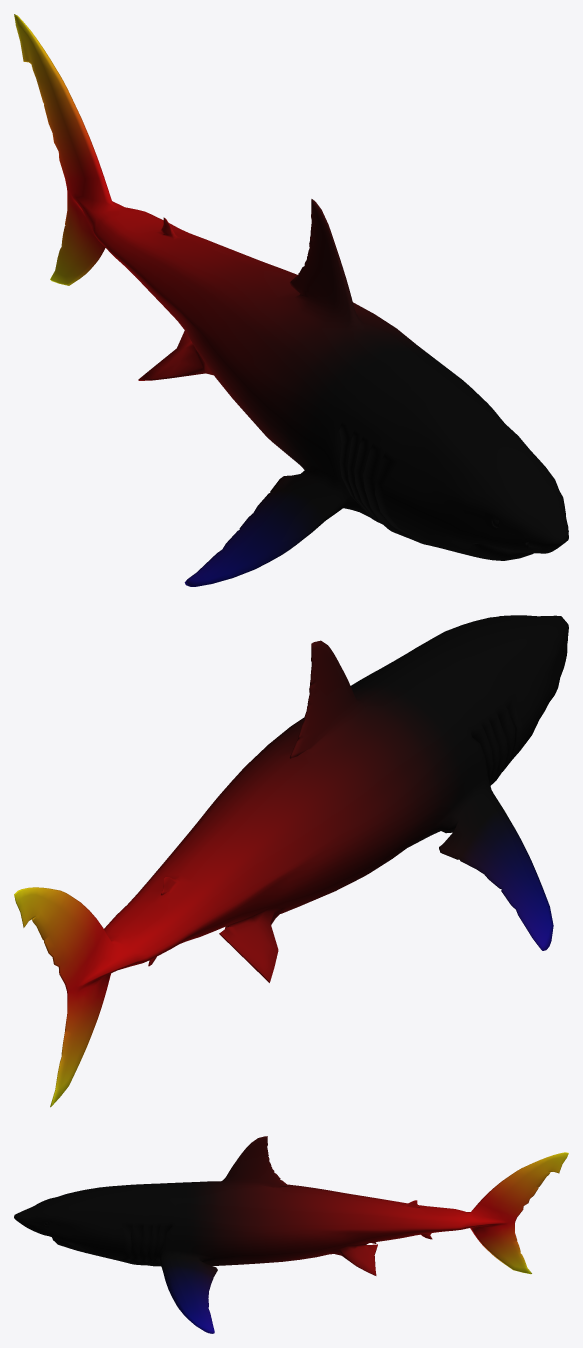
Rendered from WhiteShark.glb.
The picture shows the model from 3 angles, top to bottom: view 1: azimuth 30°, elevation 25°; view 2: azimuth 150°, elevation 25°; view 3: azimuth 270°, elevation 25°; orthographic projection. The views are drawn at different scales.
Visible parts, largest first — view 1: Great white shark_closed (internal use only); view 2: Great white shark_closed (internal use only); view 3: Great white shark_closed (internal use only).
Boxes of the visible parts, x1,y1,x2,y2 form: Great white shark_closed (internal use only): (14,14,568,586); Great white shark_closed (internal use only): (14,615,568,1107); Great white shark_closed (internal use only): (14,1136,568,1333).
Bounding box in the file's own units: 1.84 × 1.48 × 4.85.
